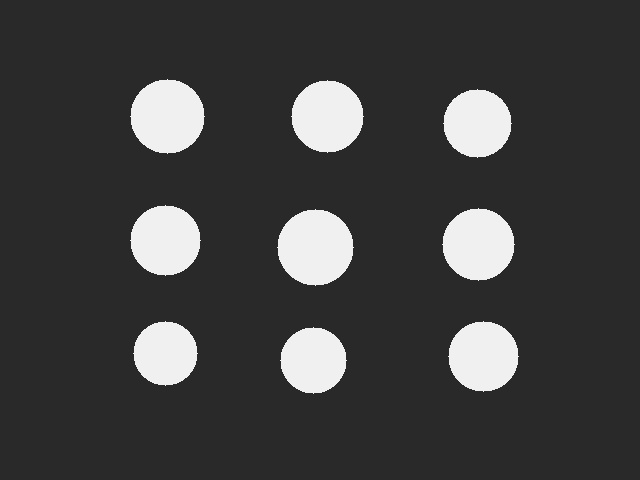hole: (277, 209, 353, 285), (130, 79, 204, 153), (291, 80, 363, 152), (442, 208, 514, 280), (130, 205, 200, 275), (448, 321, 518, 391), (443, 89, 511, 157), (280, 327, 346, 393), (133, 321, 197, 385)
